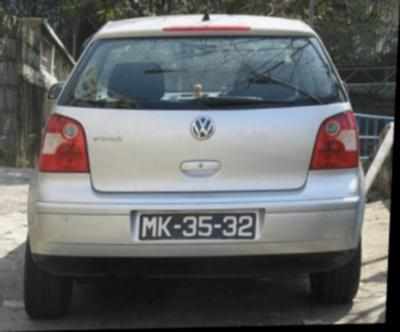License_Plate: (137, 211, 256, 243)
